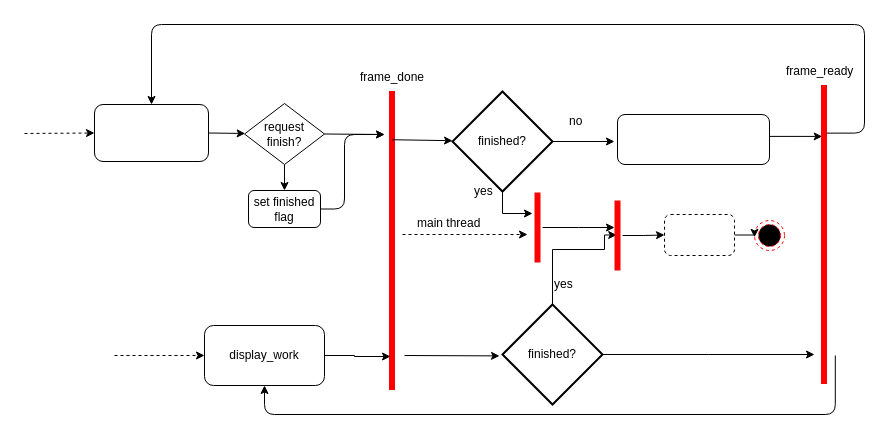
Some shapes in this 890 by 440 pixel diagram are drawn without their labels. The shapes that lost their labels are listed below. From the top down, each one's box as (x1, y1, x2, y2) in pixels, then its label:
(94, 104, 208, 162): gol_work
(616, 114, 770, 164): gol_swap_working_grid
(664, 214, 734, 256): dispose_rsc
